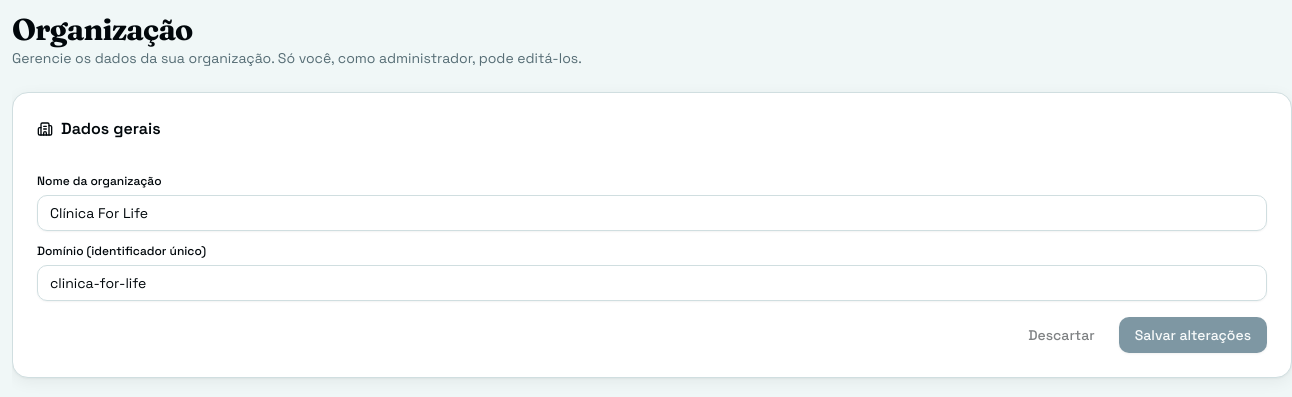
Test: OrganizacaoPage › Descartar reverte as alterações não salvas
This screenshot has width=1292, height=397.
Replace the text in the field showing "Clínica For Life" below "Nome da organização" with "Rascunho não salvo". click: (652, 213)
box: [37,195,1267,231]
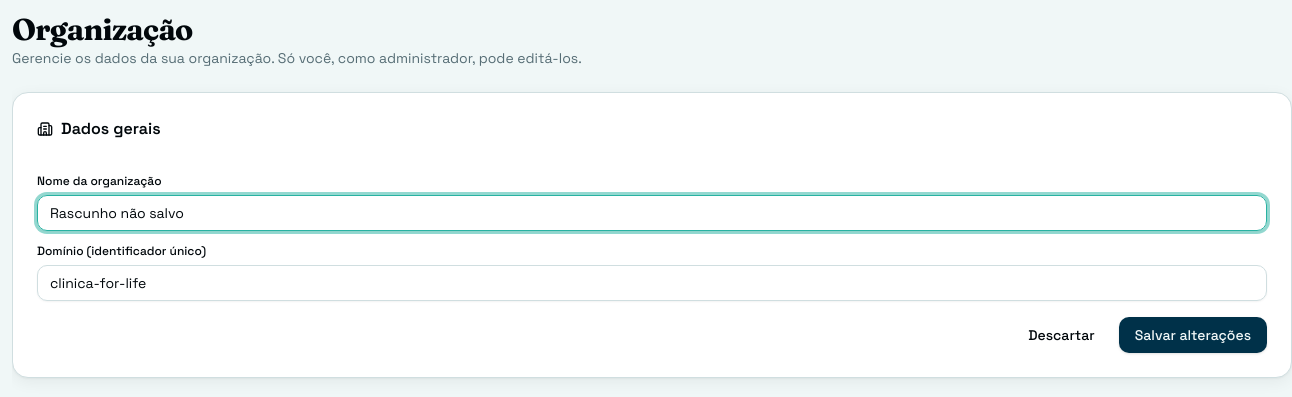
Click the button "Descartar". click: (1062, 335)
box: [1012,317,1111,353]
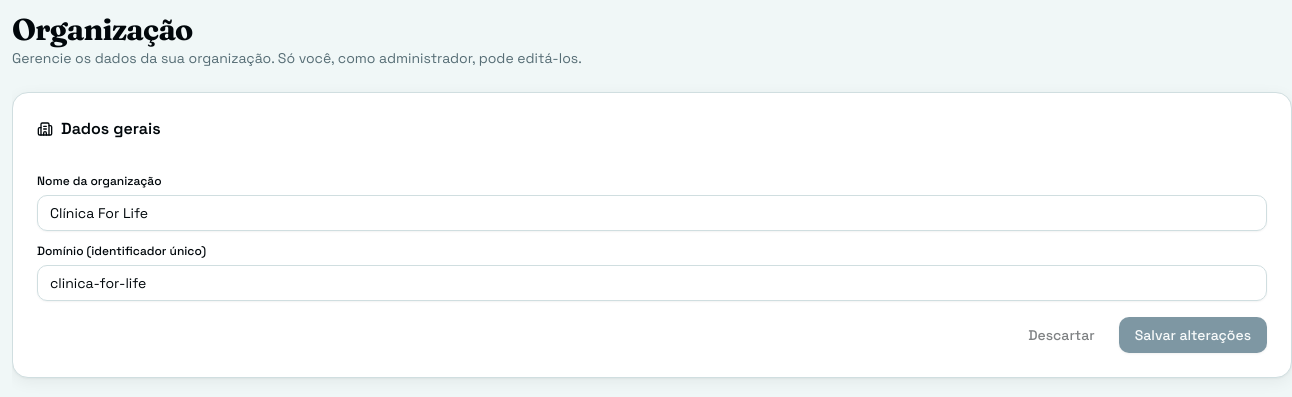
Now the field showing "Clínica For Life" below "Nome da organização" is shown, box [37,195,1267,231]
